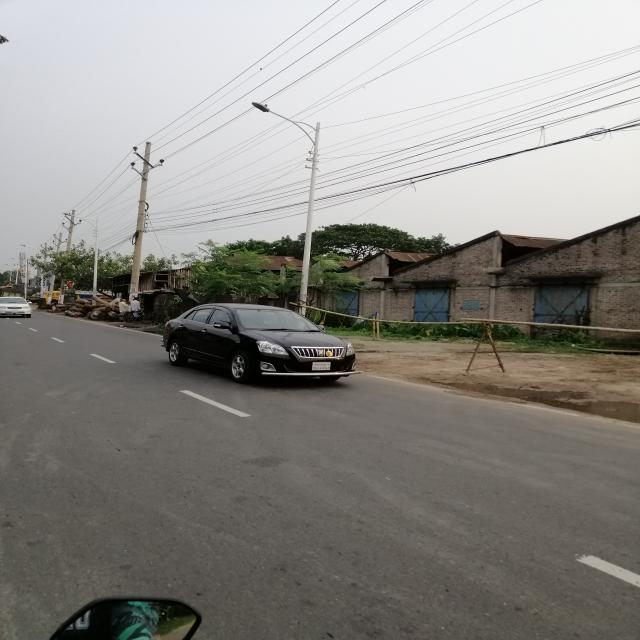Car: (151, 295, 367, 390)
